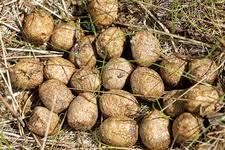Elk: (22, 20, 212, 136)
